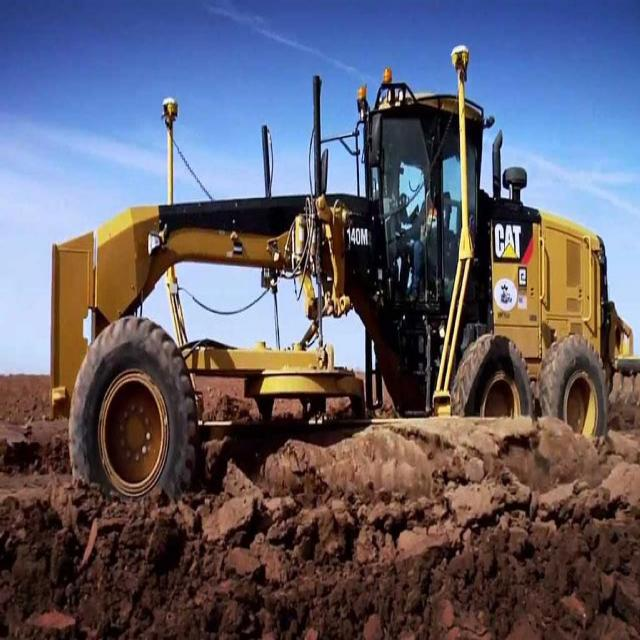Grader: (56, 51, 616, 530)
